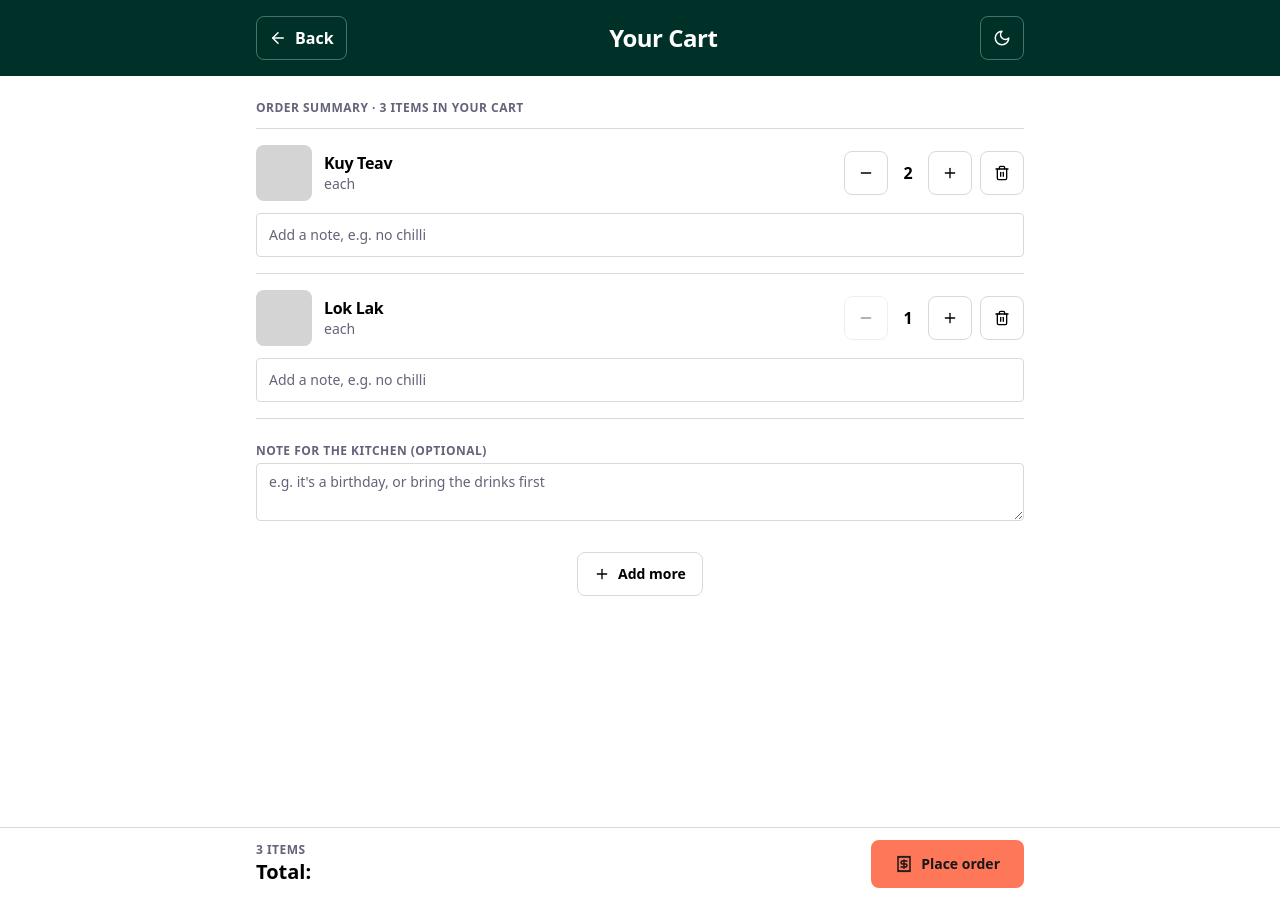
it: order errors › too many orders (VM-22): shows the server's message and keeps the cart
This screenshot has width=1280, height=900.
expect the heading "Kuy Teav" is shown: met, box left=324, top=152, right=392, bottom=174
Step 1. Click the button "Place order" → click(948, 864), box left=871, top=840, right=1024, bottom=888
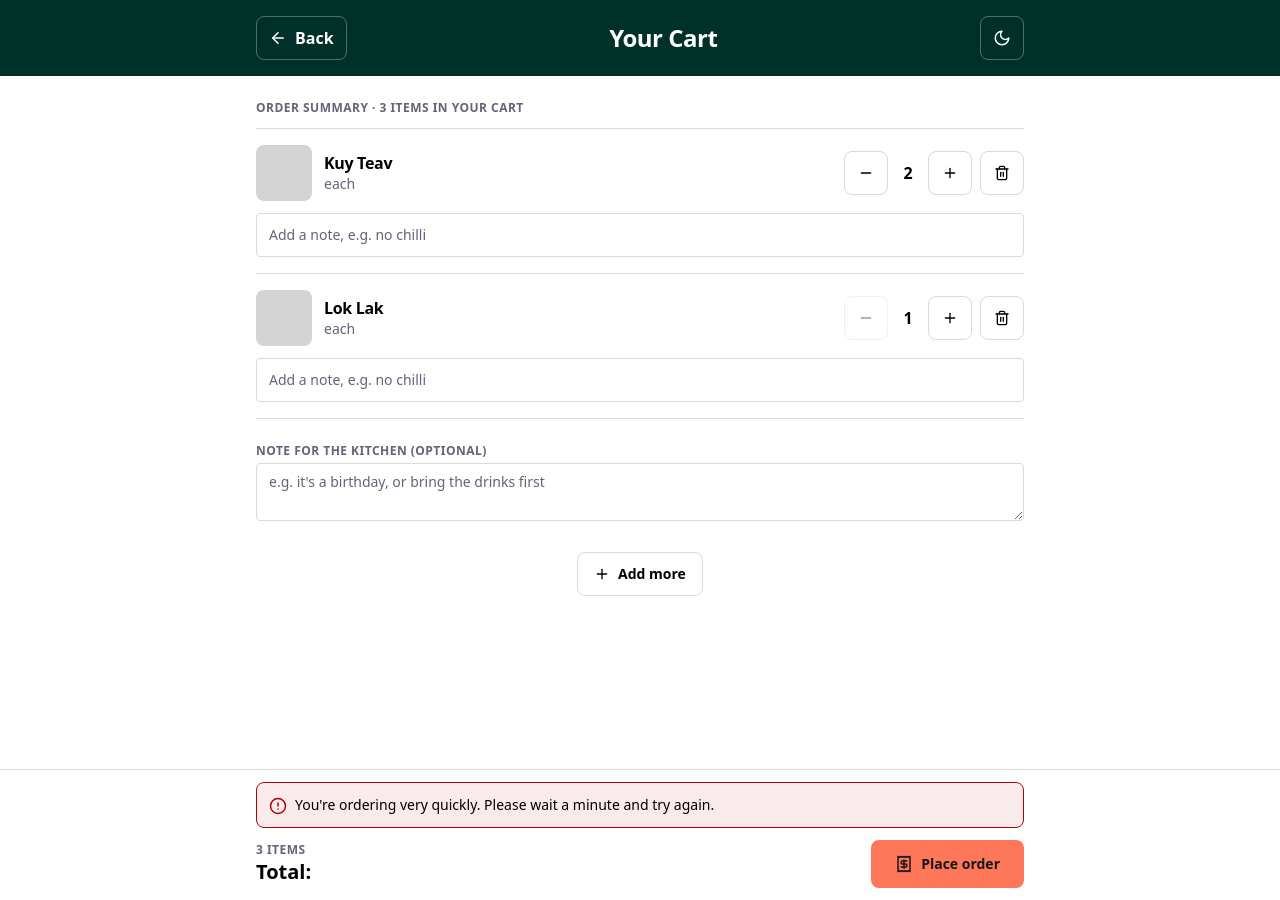
expect the message shows "Please wait a minute": met, box left=295, top=795, right=714, bottom=814
